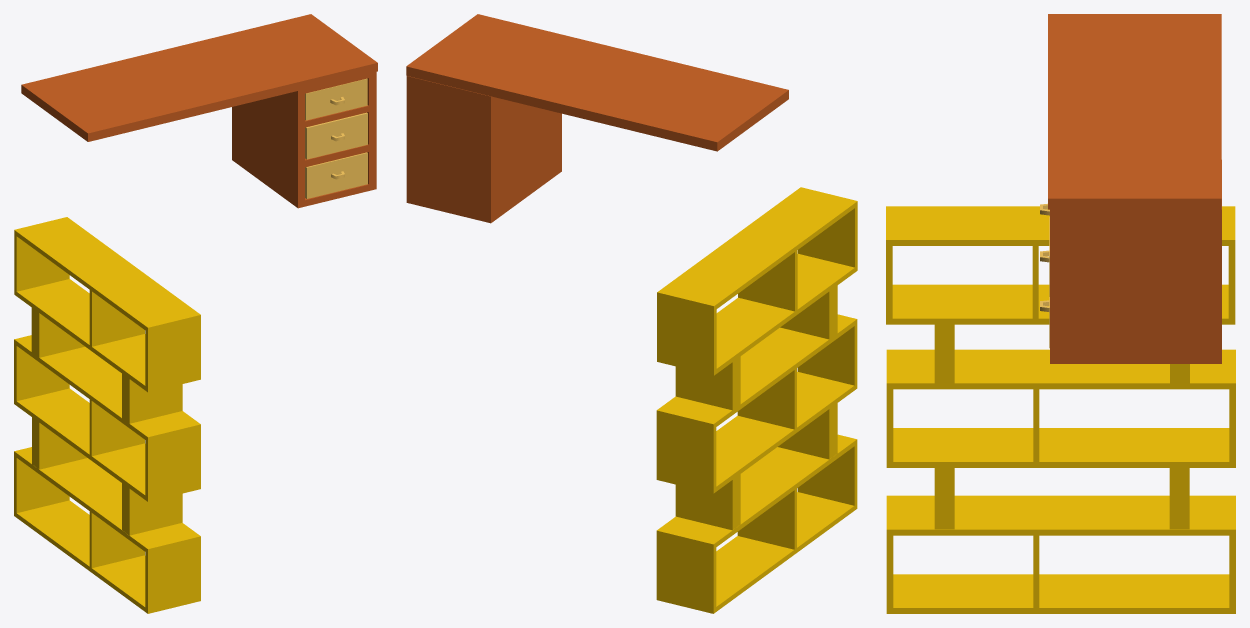
Rendered from deskandshelf.FBX.
The picture shows the model from 3 angles, left to right: view 1: azimuth 30°, elevation 25°; view 2: azimuth 150°, elevation 25°; view 3: azimuth 270°, elevation 25°; orthographic projection. The views are drawn at different scales.
Parts seen in each view (by area): view 1: bookshelf, desk, drawer_middle, drawer_bottom, drawer_top; view 2: bookshelf, desk; view 3: bookshelf, desk.
Boxes of the visible parts, bbox=[...] form: bookshelf: bbox=[14, 217, 200, 613]; desk: bbox=[21, 14, 377, 208]; drawer_middle: bbox=[305, 112, 367, 159]; drawer_bottom: bbox=[305, 152, 367, 198]; drawer_top: bbox=[305, 78, 367, 120]; bookshelf: bbox=[656, 187, 857, 613]; desk: bbox=[406, 14, 788, 223]; bookshelf: bbox=[886, 206, 1235, 613]; desk: bbox=[1048, 14, 1221, 363].
Bounding box in the file's own units: 885 × 1259 × 704.
